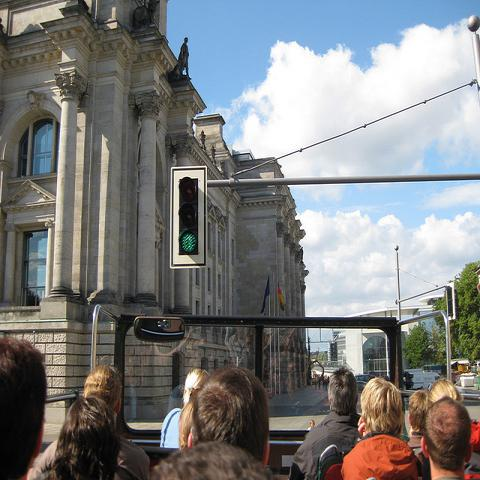car: (355, 375, 371, 391)
